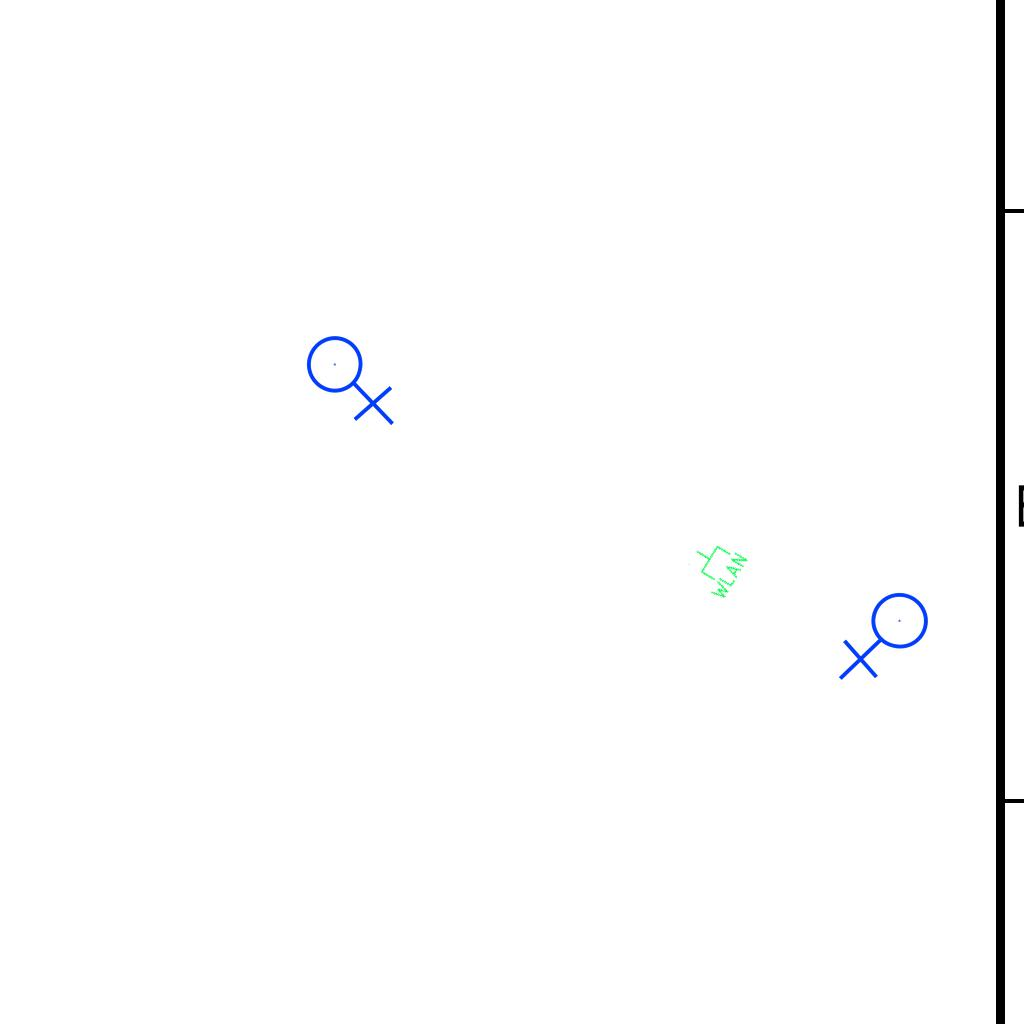Elektroanschluss_allgemein_230V_Geraeteanschlussdose_230V: (838, 591, 937, 685), (305, 327, 399, 426)
WLAN: (679, 532, 751, 604)
